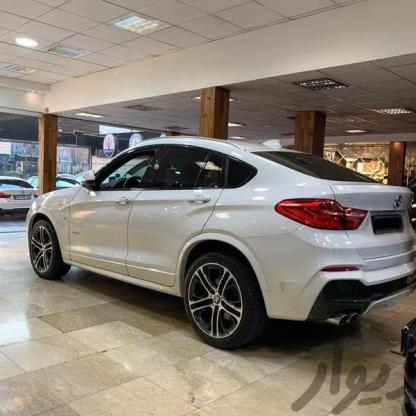Car: (19, 130, 416, 356), (0, 165, 55, 234)
